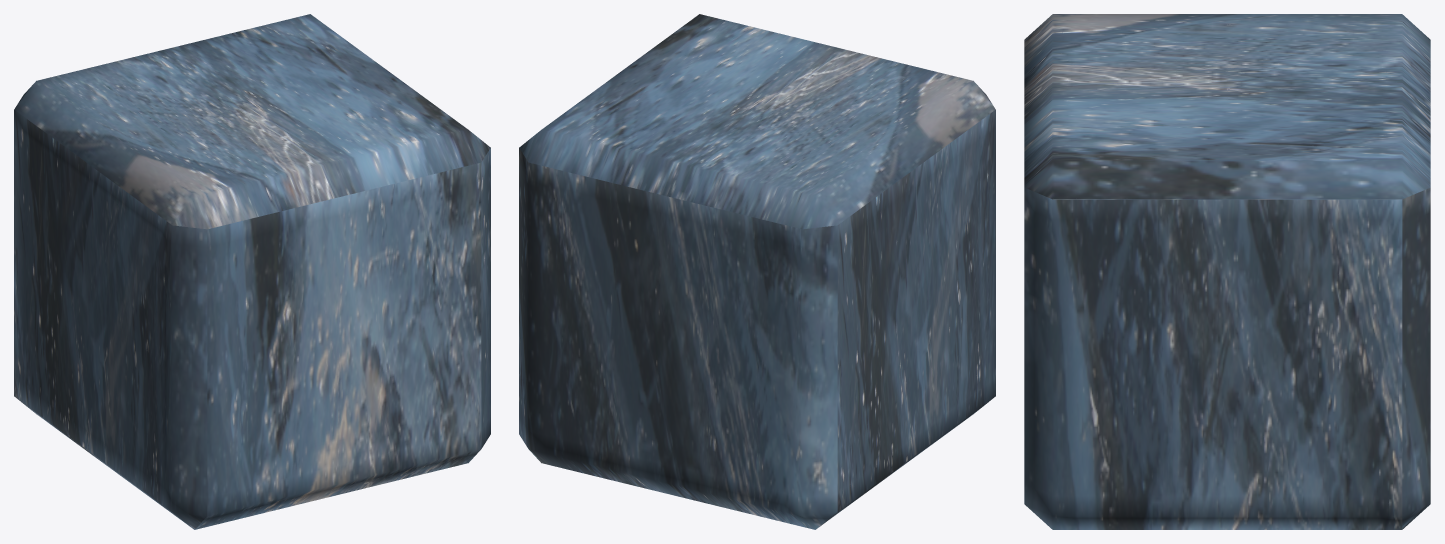
The picture shows the model from 3 angles, left to right: view 1: azimuth 30°, elevation 25°; view 2: azimuth 150°, elevation 25°; view 3: azimuth 270°, elevation 25°; orthographic projection. The views are drawn at different scales.
Parts seen in each view (by area): view 1: Cube; view 2: Cube; view 3: Cube.
Part boxes in pixels (x1,y1,x2,y2): Cube: (14,14,490,529); Cube: (519,14,995,529); Cube: (1024,14,1430,529).
Size of the model in its own units: 1.1 by 1.1 by 1.1.
Materials: 1 (1 with a texture image).
